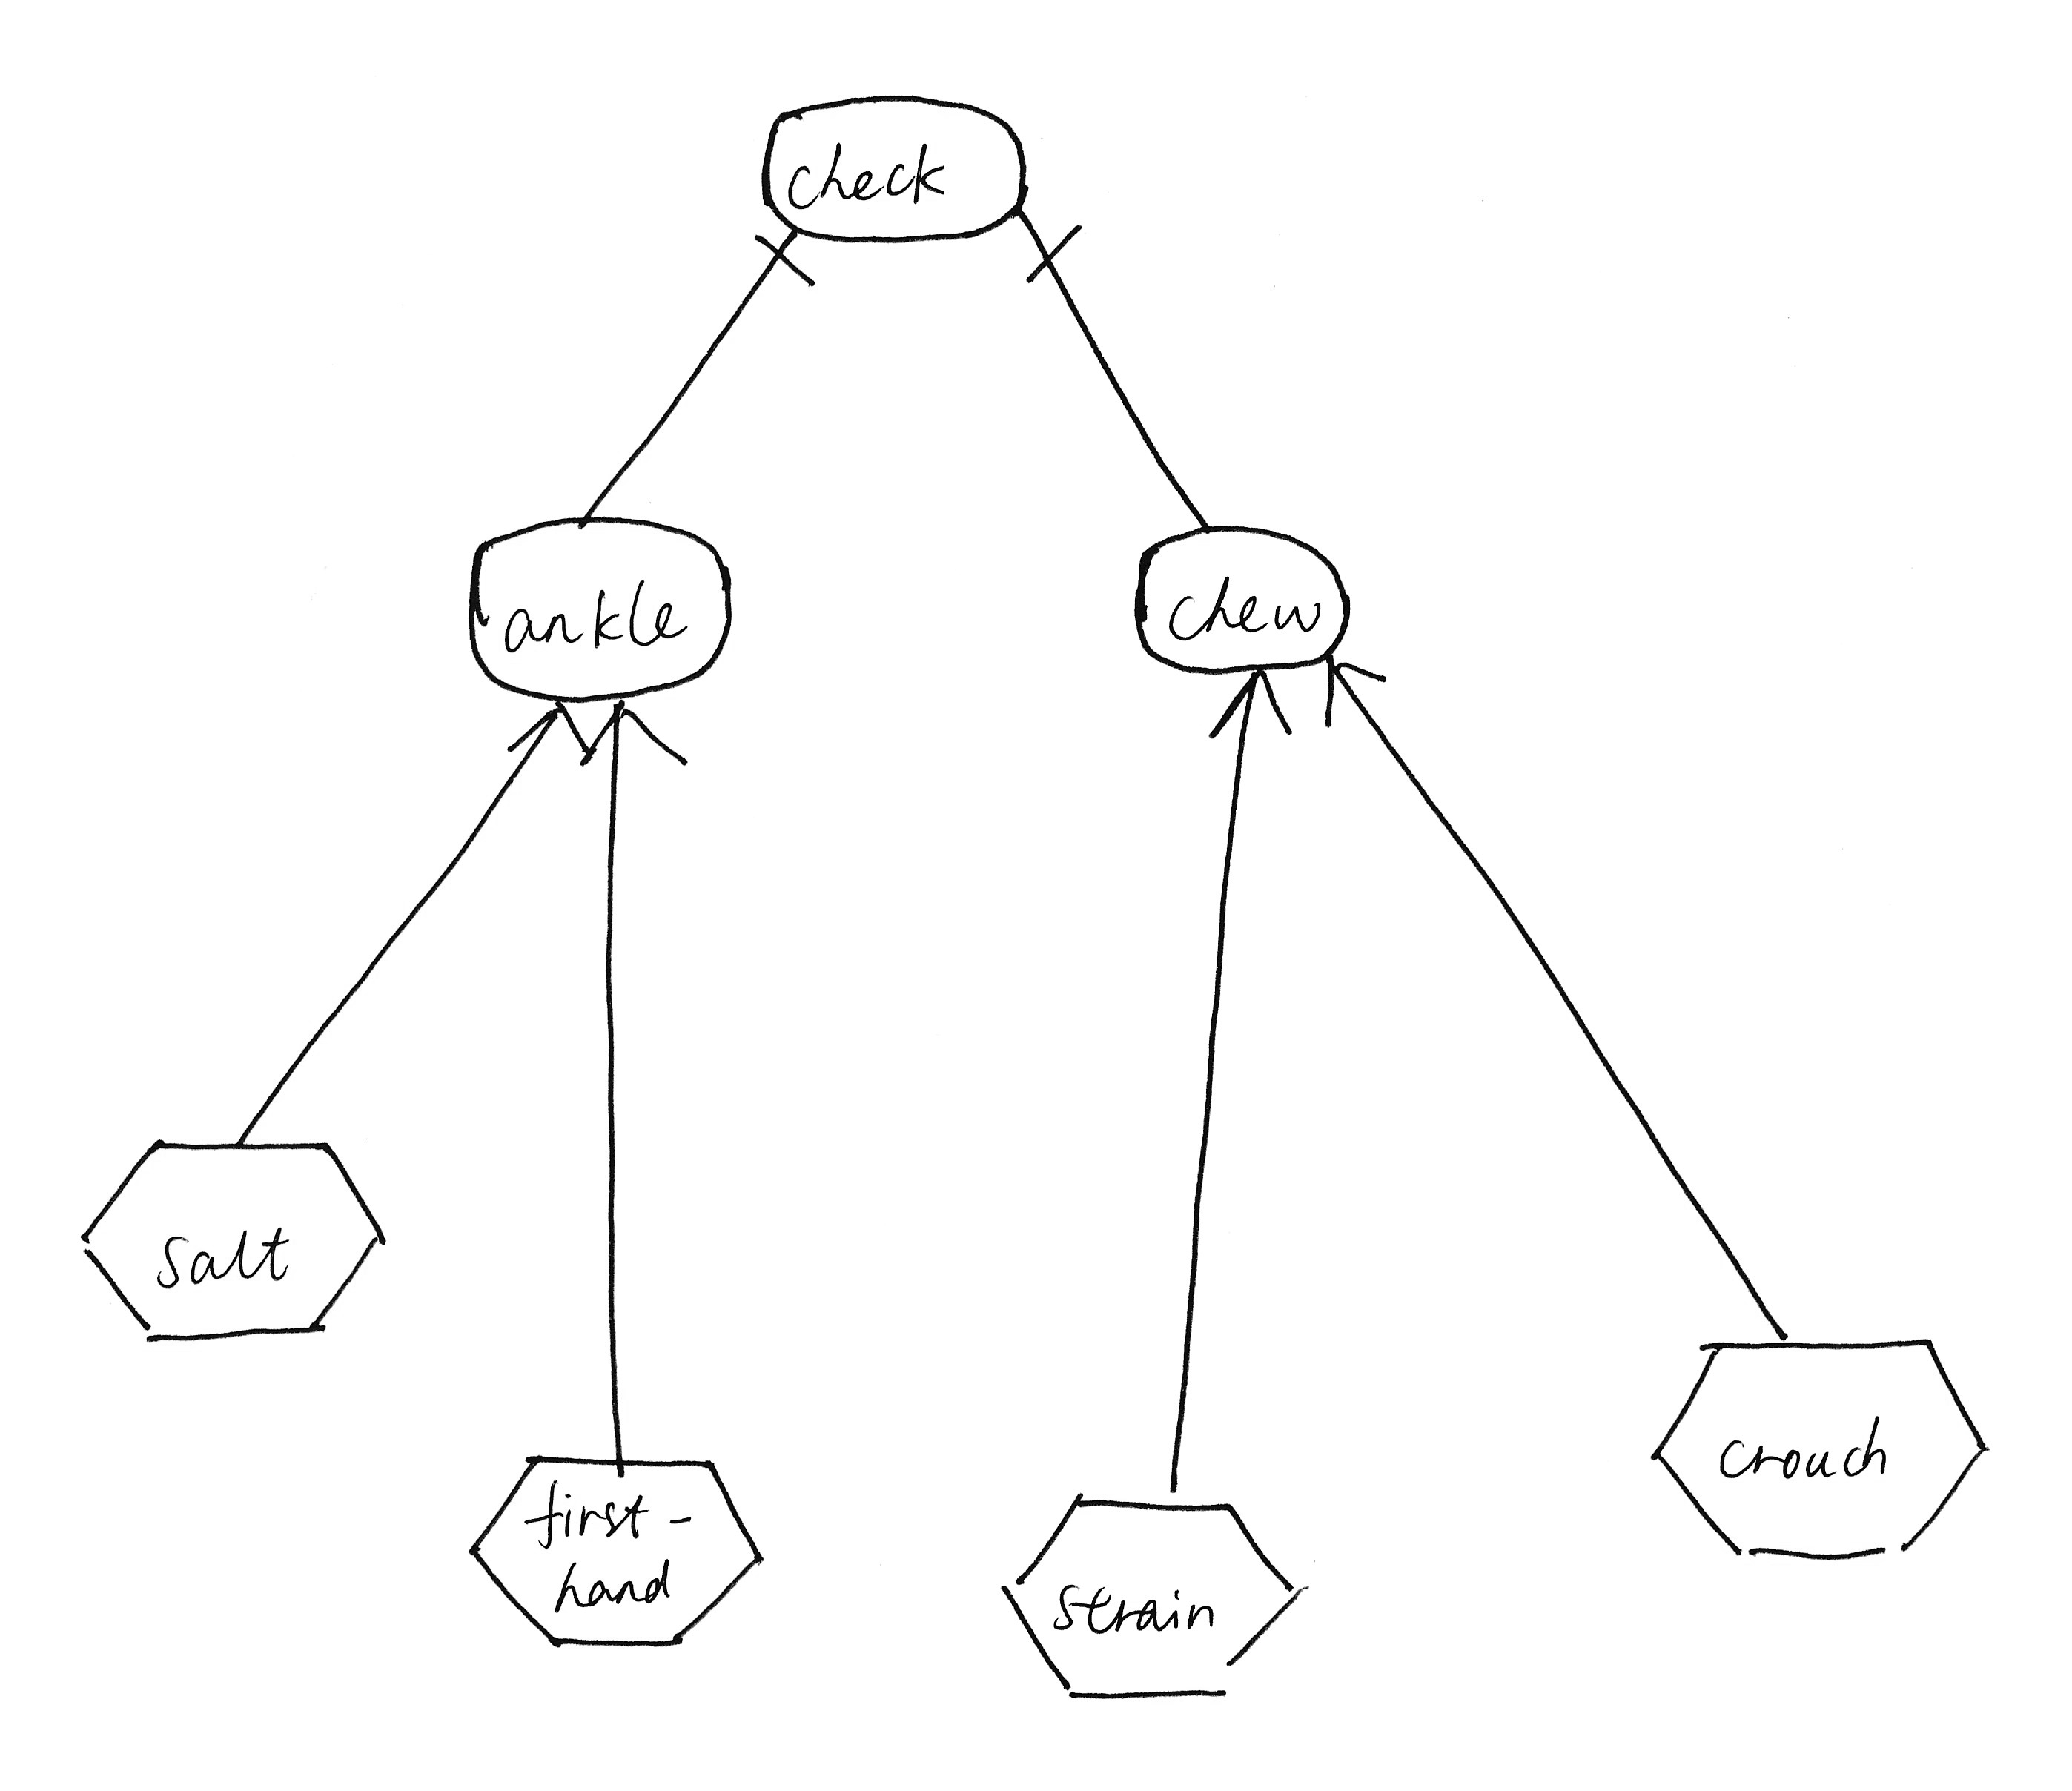and: (731, 215, 828, 305), (1015, 215, 1103, 299)
arrow: (569, 689, 698, 787), (1198, 650, 1307, 755), (1307, 638, 1404, 748), (497, 689, 597, 780)
goal: (456, 507, 745, 711), (747, 77, 1036, 248), (1115, 518, 1364, 687)
task: (1628, 1326, 1998, 1576), (995, 1474, 1320, 1724), (65, 1129, 402, 1354), (458, 1444, 779, 1659)
